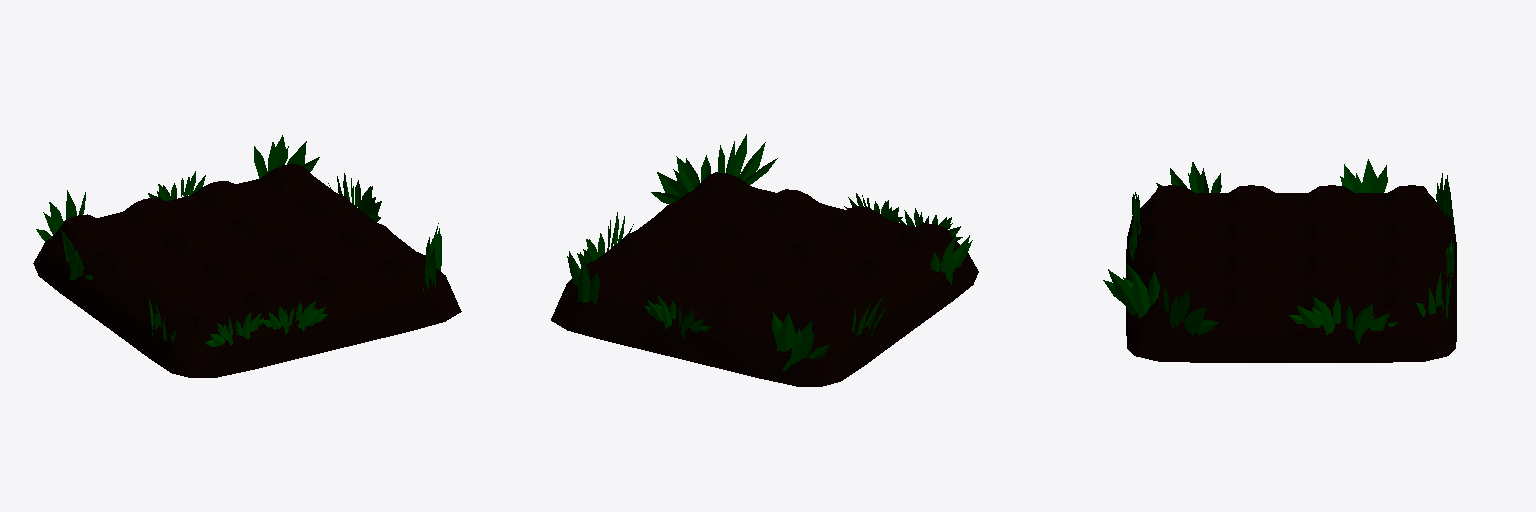
File: graden.obj
3 renders of one model, left to right at view 1: azimuth 30°, elevation 25°; view 2: azimuth 150°, elevation 25°; view 3: azimuth 270°, elevation 25°, orthographic.
Visible parts, largest first — view 1: garden_Cube.010; view 2: garden_Cube.010; view 3: garden_Cube.010.
Part boxes in pixels (x1,y1,x2,y2): garden_Cube.010: (33, 135, 461, 377); garden_Cube.010: (551, 134, 978, 386); garden_Cube.010: (1103, 159, 1456, 362).
Bounding box in the file's own units: 16.24 × 4.37 × 16.8.